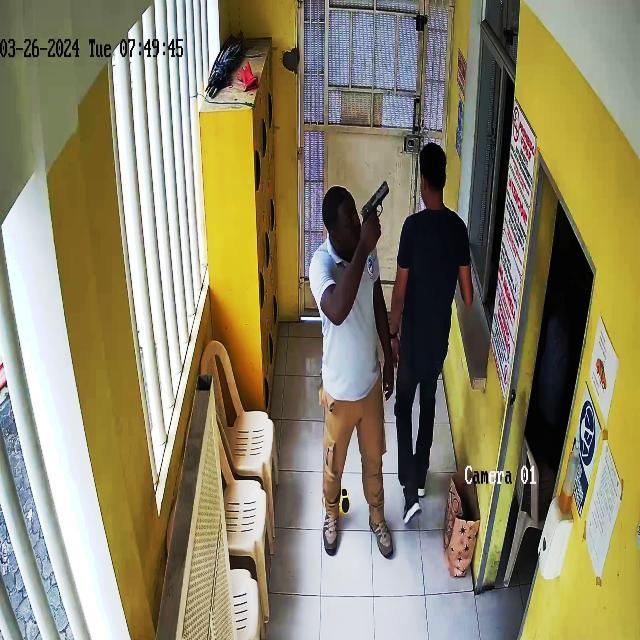Gun: (353, 172, 395, 235)
